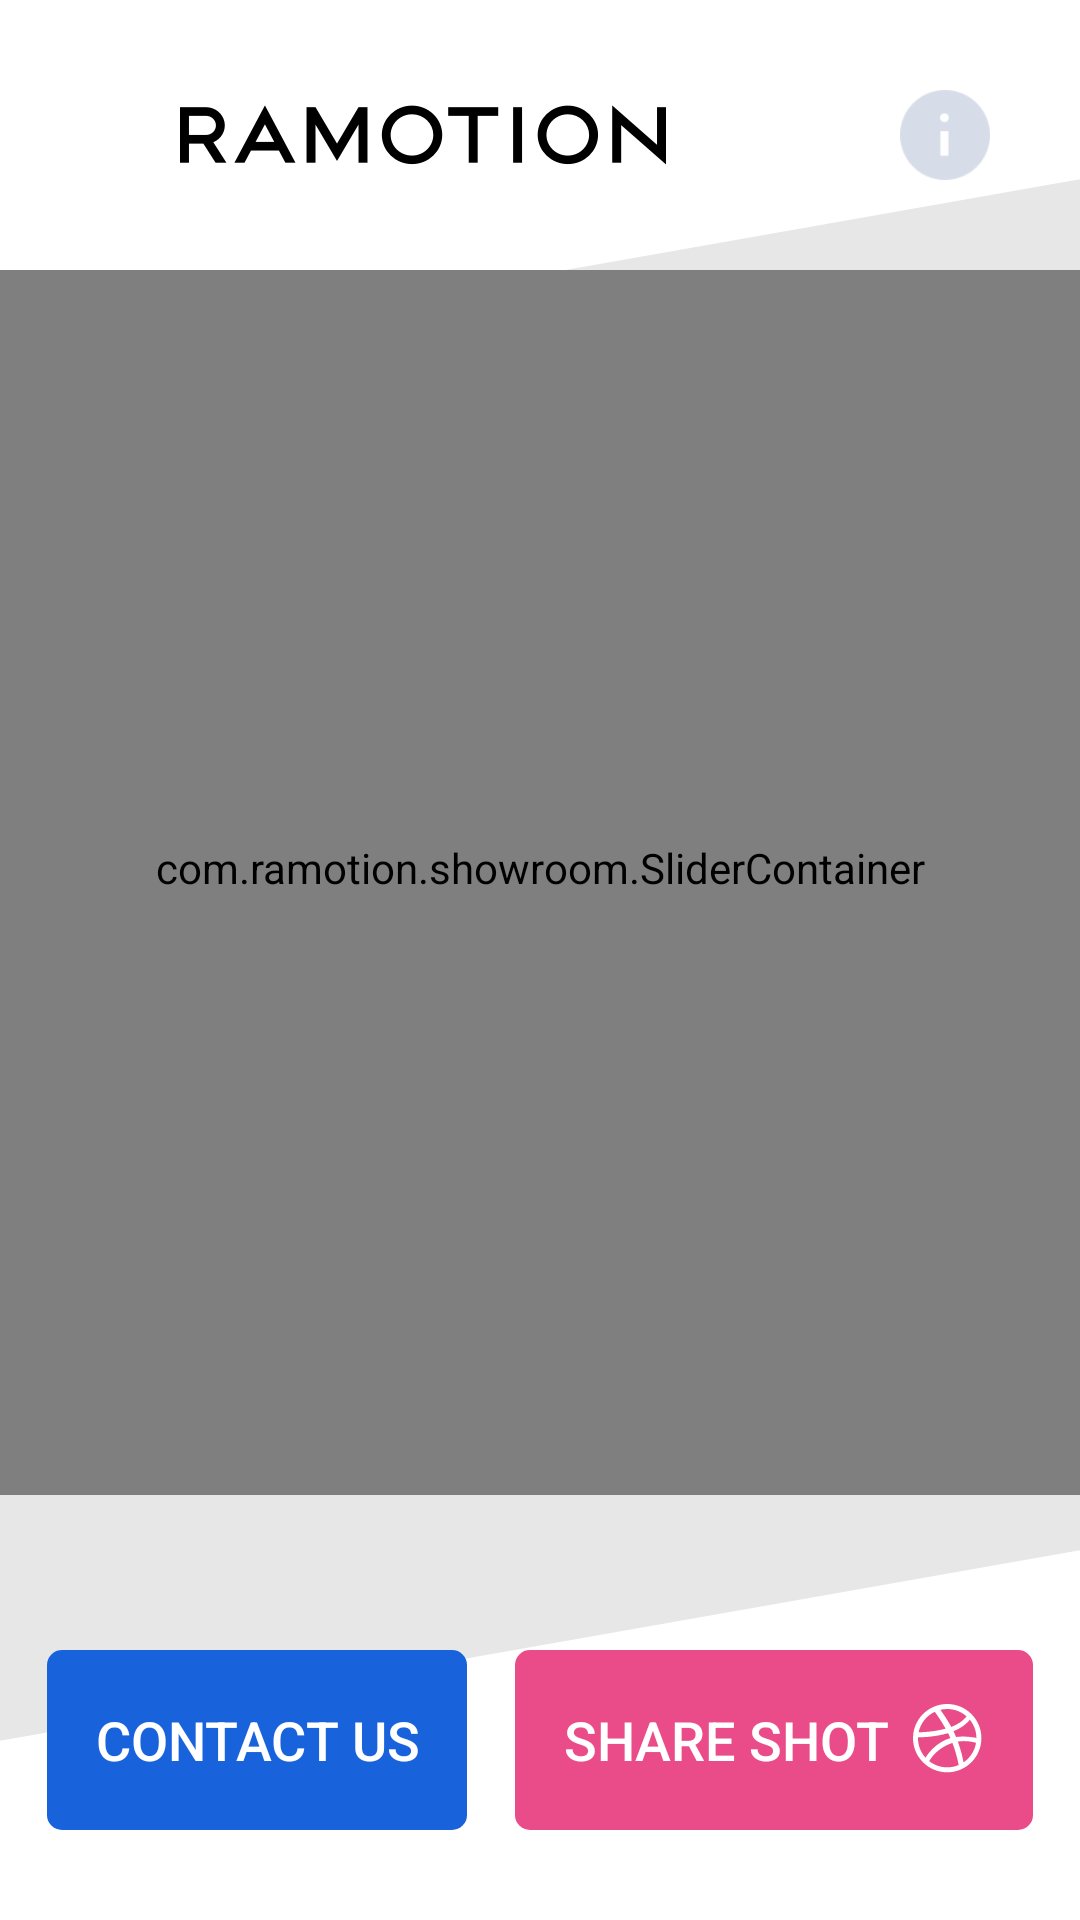

Icon bounding boxes for this 1080×1920 phone screenshot, format (x1, y1, x2, y2):
info: (900, 90, 990, 180)
